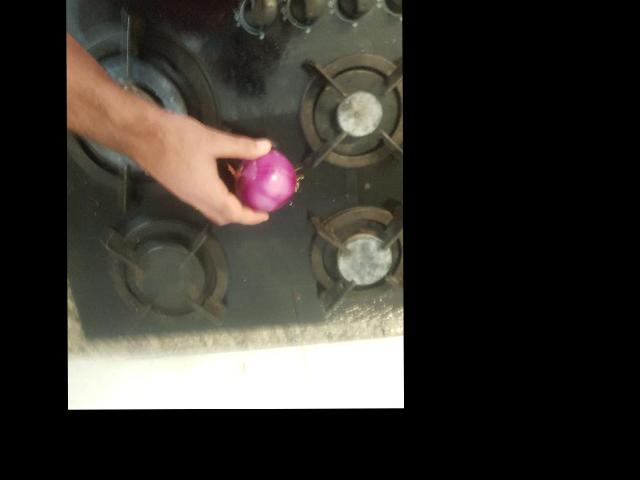onion: (260, 232, 334, 297)
